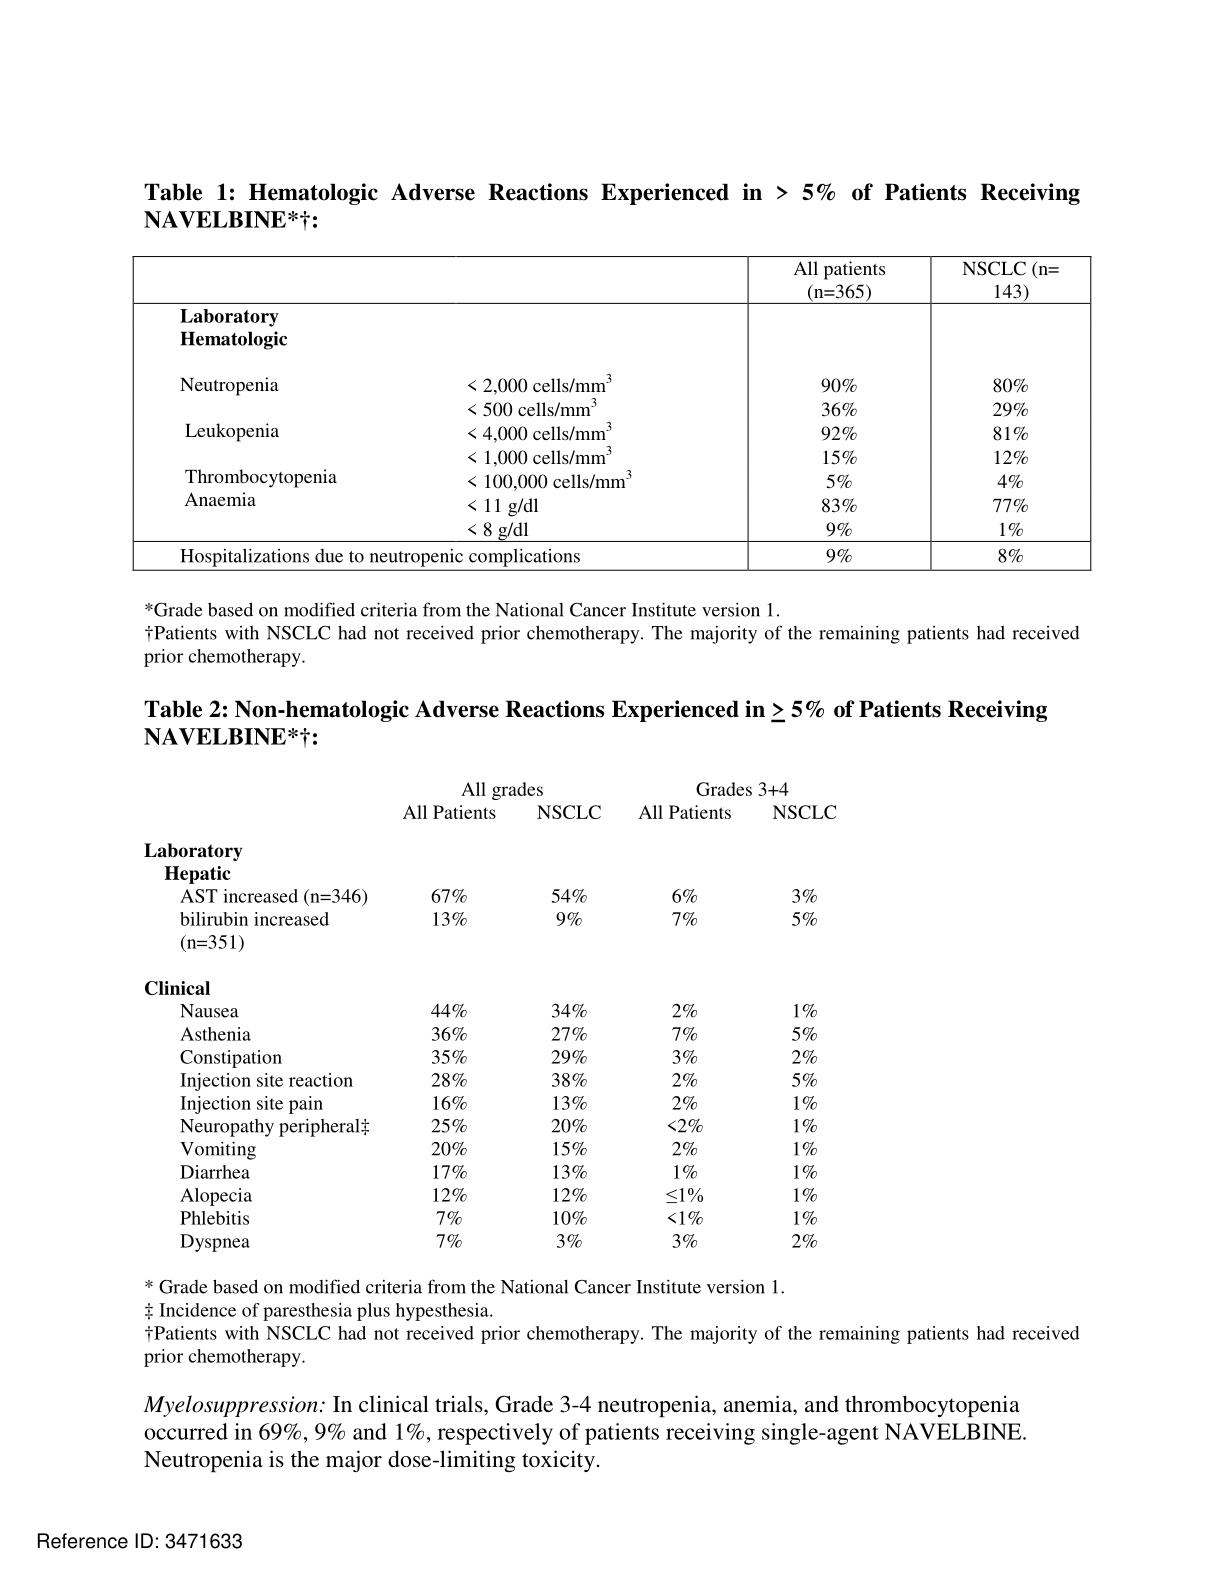nolines: (141, 783, 842, 1255)
partial_lined_merged_cells: (132, 256, 1092, 572)
